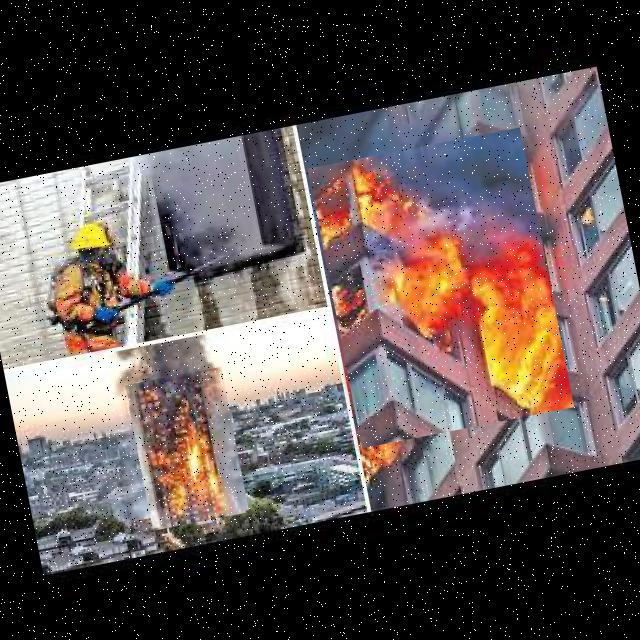fire: (308, 128, 574, 448), (125, 367, 249, 530)
